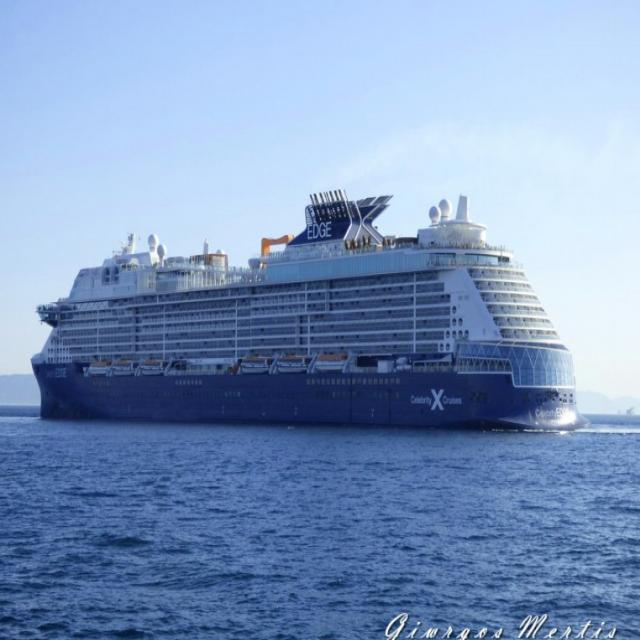cruises: (26, 186, 583, 443)
